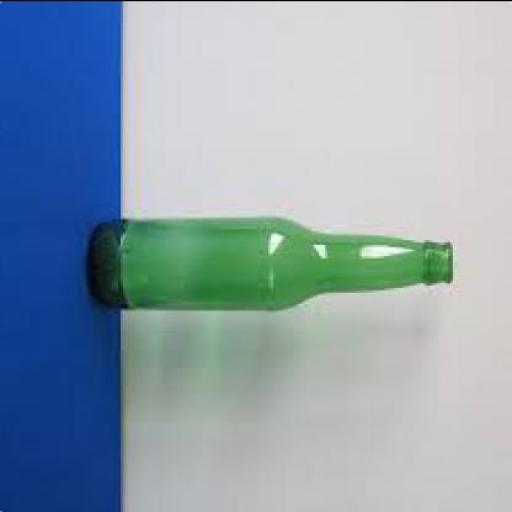glass: (91, 218, 455, 312)
